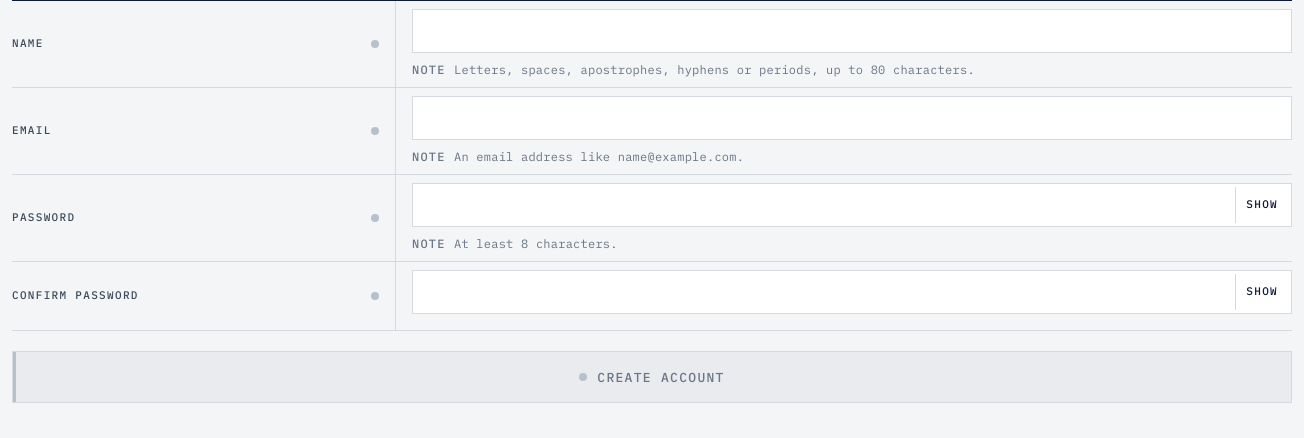
Test: AuthForm (sign up) › flags a mismatch inline, ties the message to the field, and blocks submission
Type "Ada" into the field labelled "Name". click: x=852, y=31
box: [412,9,1292,53]
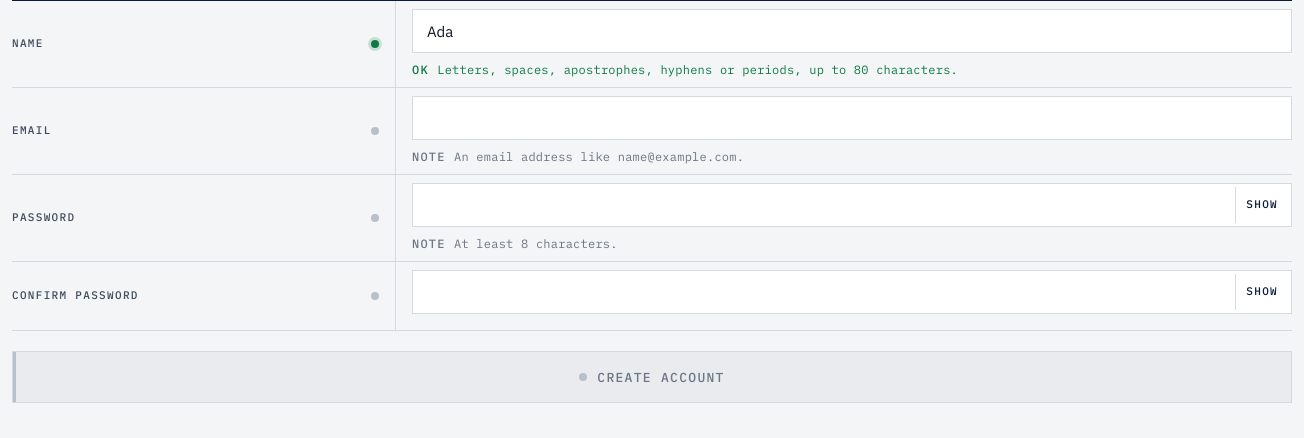
Type "ada@example.com" into the field labelled "Email". click: x=852, y=118
box: [412,96,1292,140]
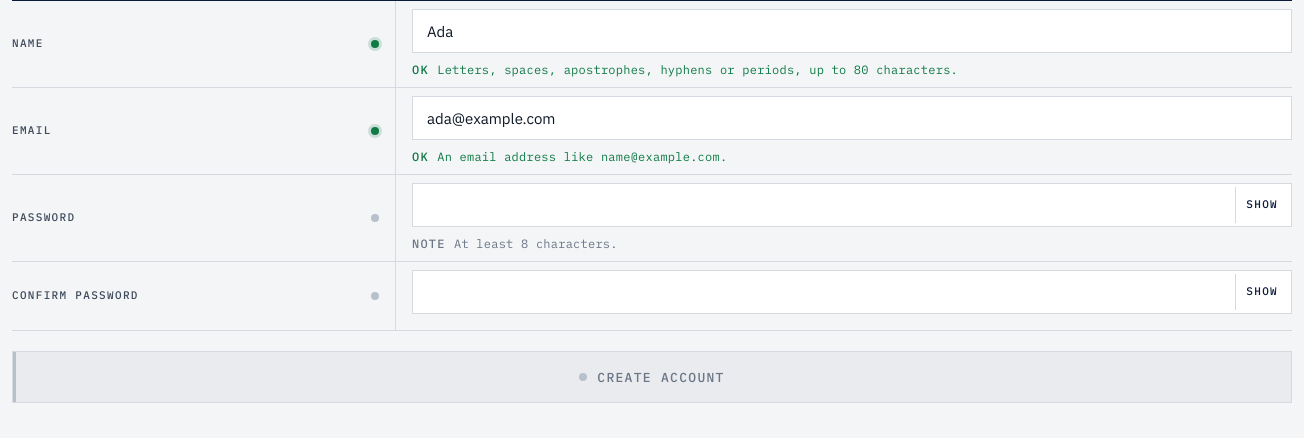
Type "correct horse battery" into the password field labelled "Password". click: x=852, y=205
box: [412,183,1292,227]
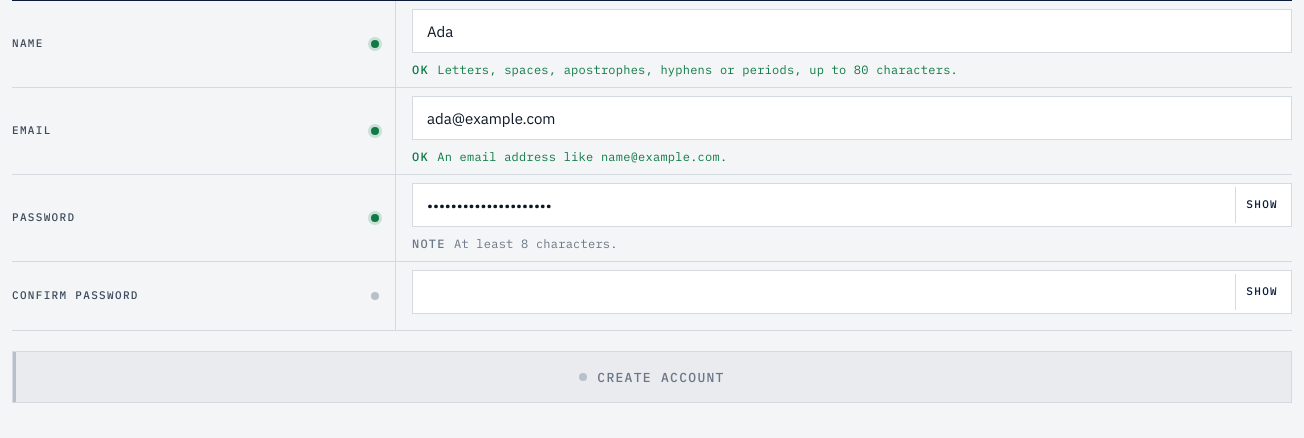
Type "correct horse" into the password field labelled "Confirm password". click: x=852, y=292
box: [412,270,1292,314]
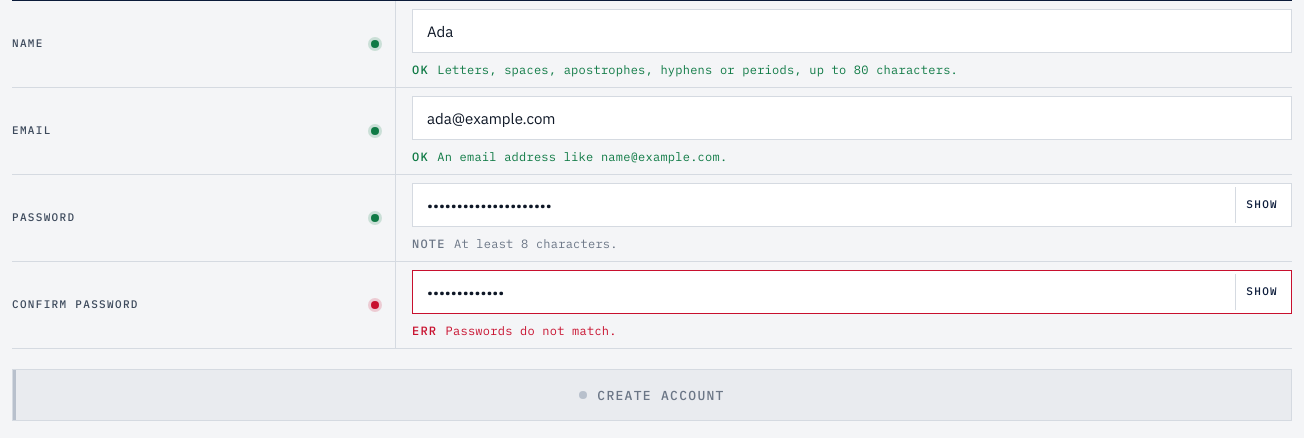
Expected: the button "Create account" is disabled, [12,369,1292,421]
Expected: the password field labelled "Confirm password" is marked as invalid, [412,270,1292,314]
Submit the form named "create account"
Type "correct horse battery" into the password field labelled "Confirm password". click: x=852, y=292
box: [412,270,1292,314]
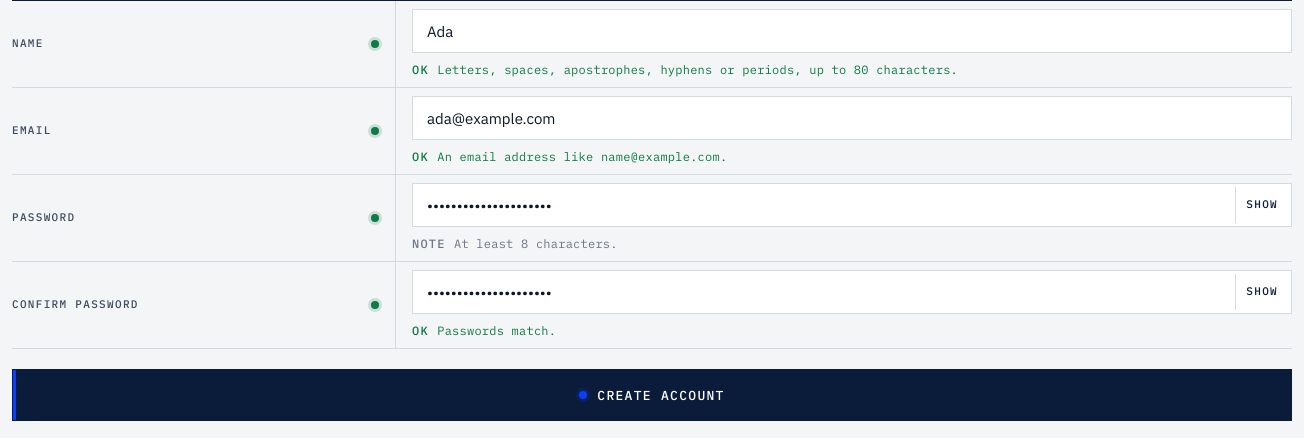
Expected: the text "Passwords do not match" is gone
Expected: the text "Passwords match." is shown, [437,323,556,338]
Expected: the button "Create account" is enabled, [12,369,1292,421]
